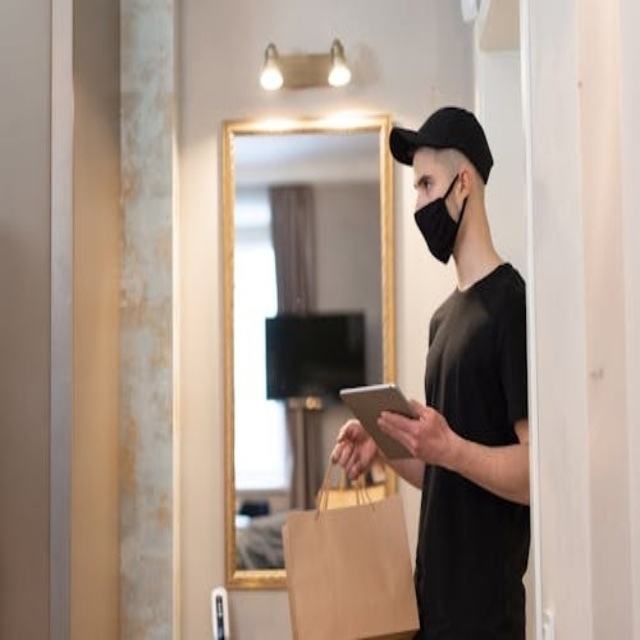Mascara: (414, 171, 465, 265)
Sin_gafas: (410, 163, 445, 192)
Sin_guantes: (379, 394, 452, 467), (330, 416, 383, 481)
